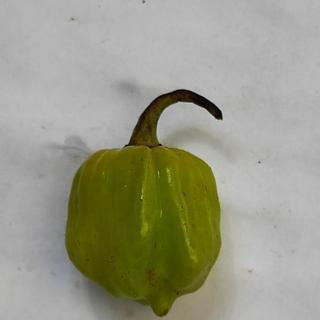Grade-B: (59, 139, 225, 314)
